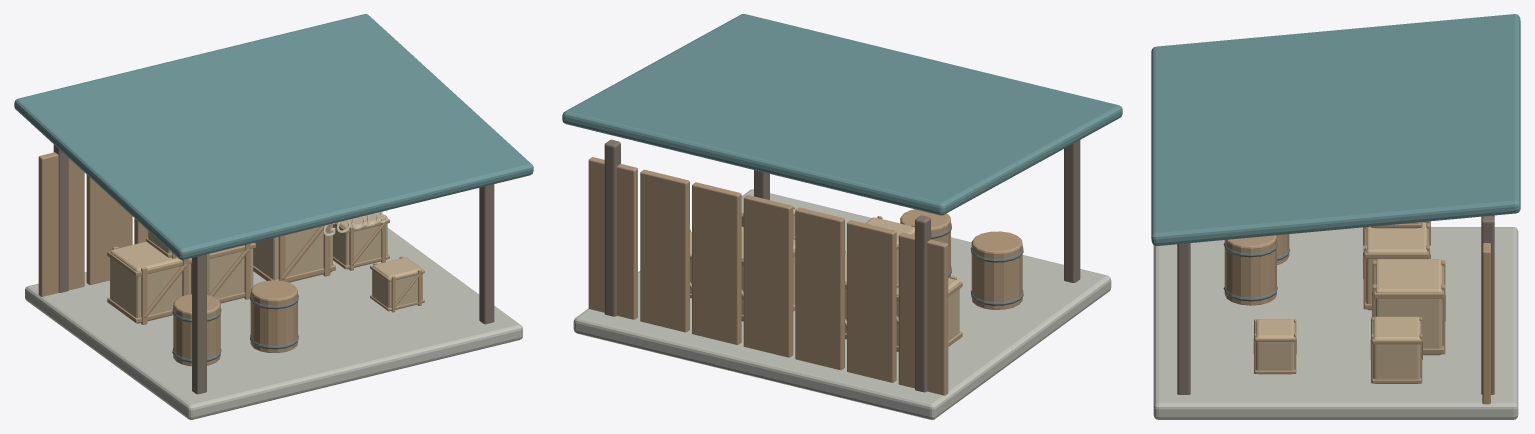
Rendered from Cargo.fbx.
3 renders of one model, left to right at view 1: azimuth 30°, elevation 25°; view 2: azimuth 150°, elevation 25°; view 3: azimuth 270°, elevation 25°, orthographic. The views are drawn at different scales.
Visible parts, largest first — view 1: Cargo; view 2: Cargo; view 3: Cargo.
Part boxes in pixels (<box>): Cargo: <box>14,14,533,419</box>; Cargo: <box>562,14,1122,419</box>; Cargo: <box>1151,14,1520,419</box>.
Size of the model in its own units: 740 by 608 by 407.
